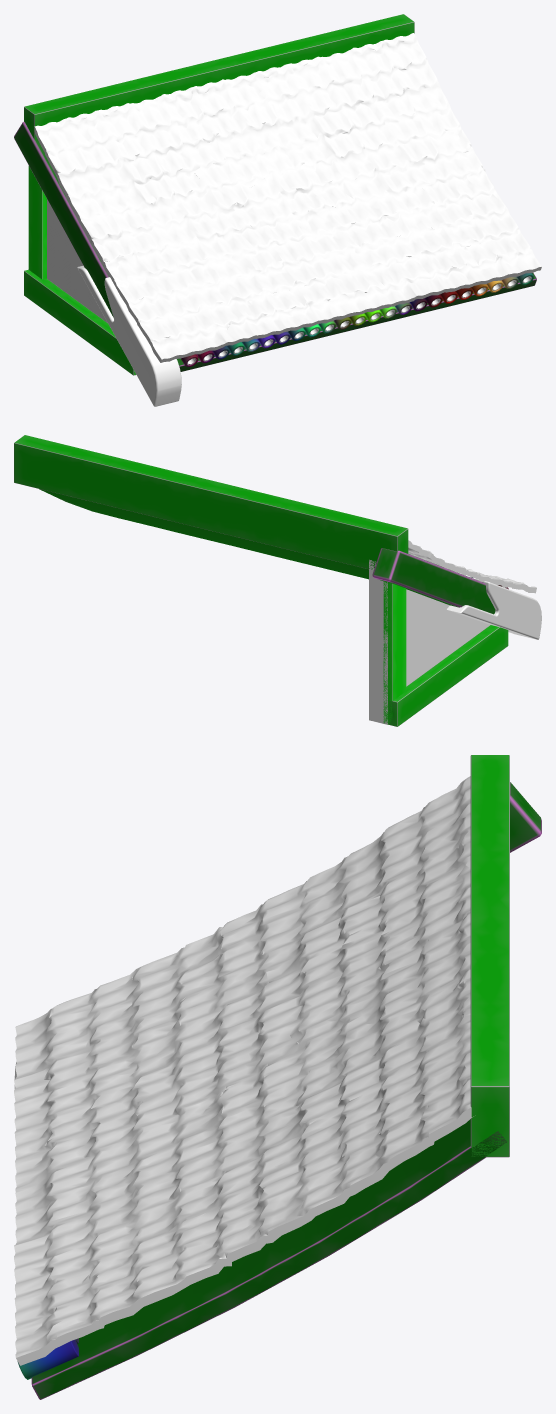
Rendered from roof_side_400x200_01_left.fbx.
The picture shows the model from 3 angles, top to bottom: view 1: azimuth 30°, elevation 25°; view 2: azimuth 150°, elevation 25°; view 3: azimuth 270°, elevation 25°; orthographic projection. The views are drawn at different scales.
Visible parts, largest first — view 1: roof_side_400x200_01_left; view 2: roof_side_400x200_01_left; view 3: roof_side_400x200_01_left.
Part boxes in pixels (<box>): roof_side_400x200_01_left: <box>14,14,541,406</box>; roof_side_400x200_01_left: <box>14,435,541,726</box>; roof_side_400x200_01_left: <box>14,755,541,1399</box>.
Size of the model in its own units: 4.05 by 2.01 by 2.69.
